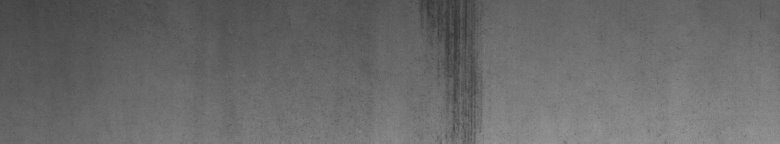ka: (412, 4, 484, 136)
